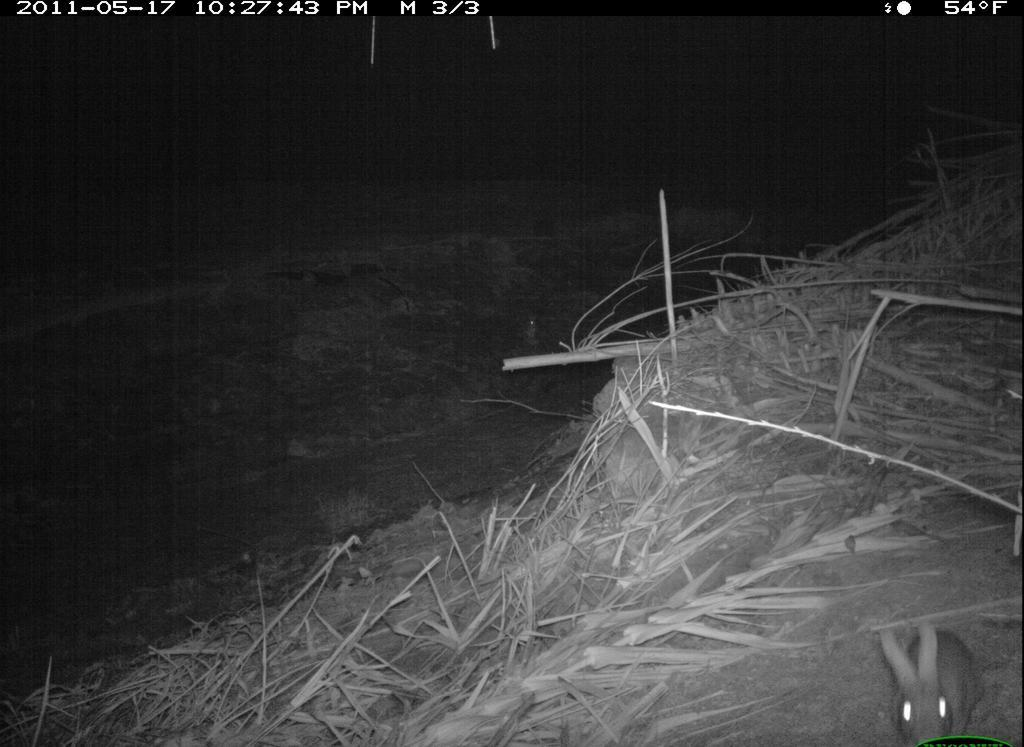rabbit: (871, 615, 996, 747)
